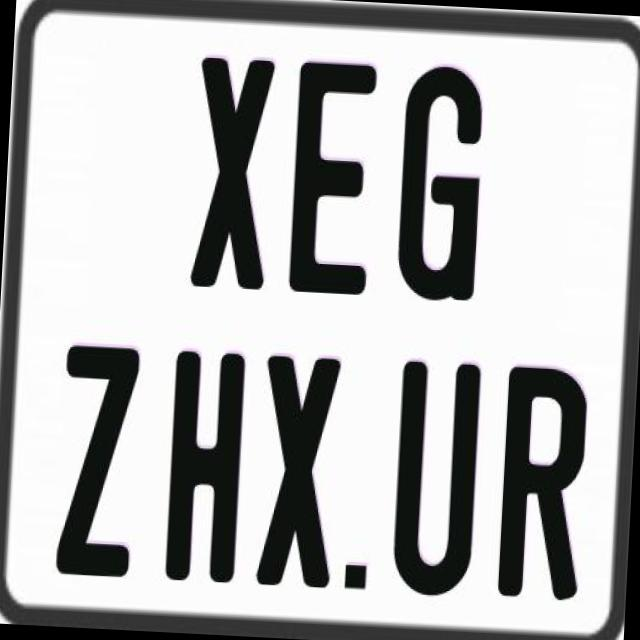E: (284, 56, 374, 294)
G: (392, 64, 482, 306)
H: (160, 348, 248, 586)
R: (496, 366, 588, 602)
U: (388, 360, 484, 600)
X: (256, 356, 344, 596), (187, 57, 276, 290)
Z: (51, 345, 136, 587)
